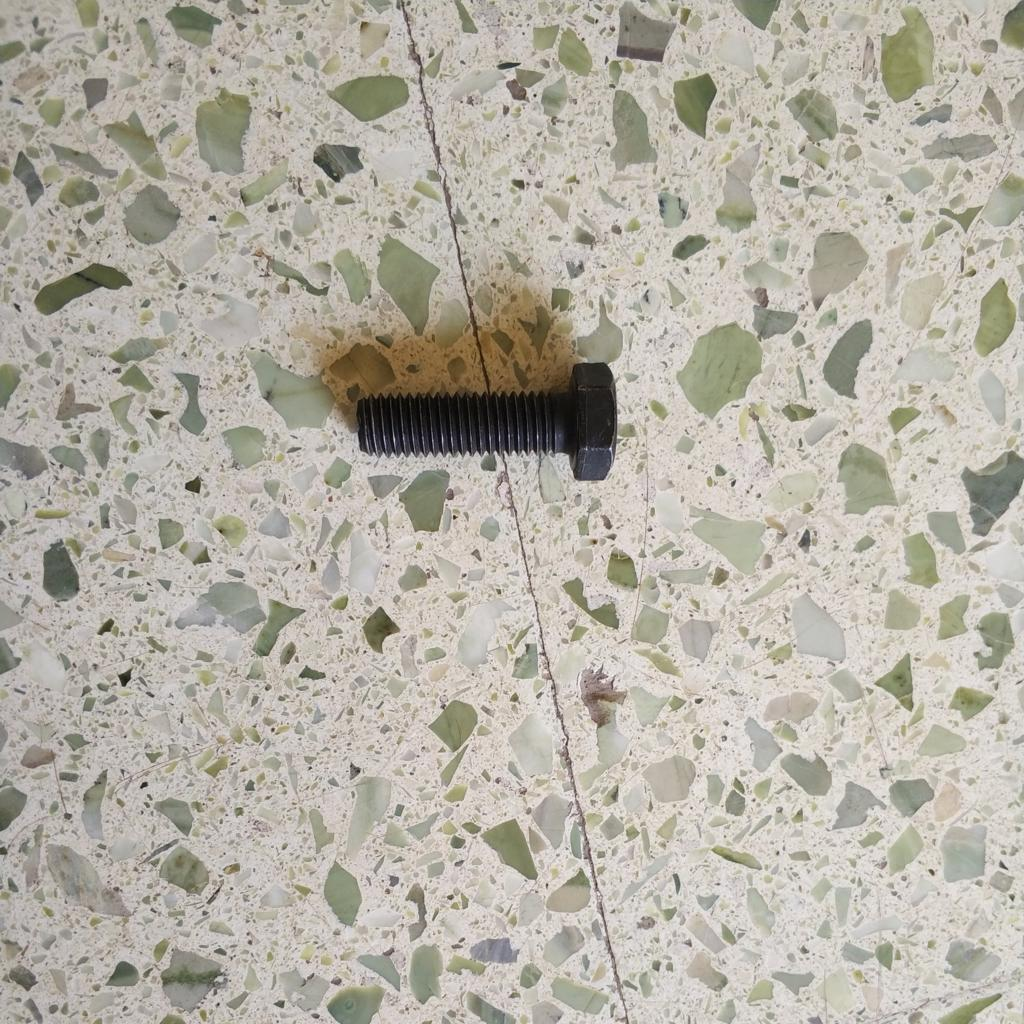screwtype2black: (351, 357, 620, 485)
